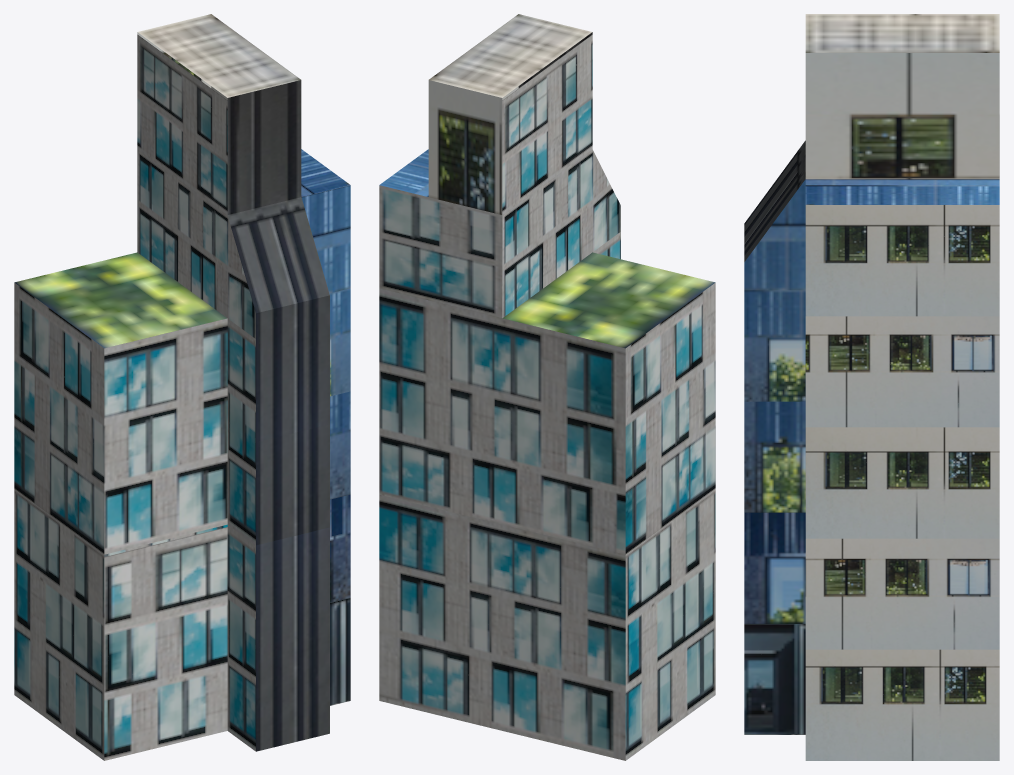
The model's file is Ufficio02.fbx.
3 renders of one model, left to right at view 1: azimuth 30°, elevation 25°; view 2: azimuth 150°, elevation 25°; view 3: azimuth 270°, elevation 25°, orthographic. The views are drawn at different scales.
Visible parts, largest first — view 1: Ufficio02; view 2: Ufficio02; view 3: Ufficio02.
Boxes of the visible parts, left/top/right/bottom form: Ufficio02: left=14, top=14, right=350, bottom=760; Ufficio02: left=379, top=14, right=715, bottom=760; Ufficio02: left=744, top=14, right=999, bottom=760.
Size of the model in its own units: 1000 by 2455 by 833.
